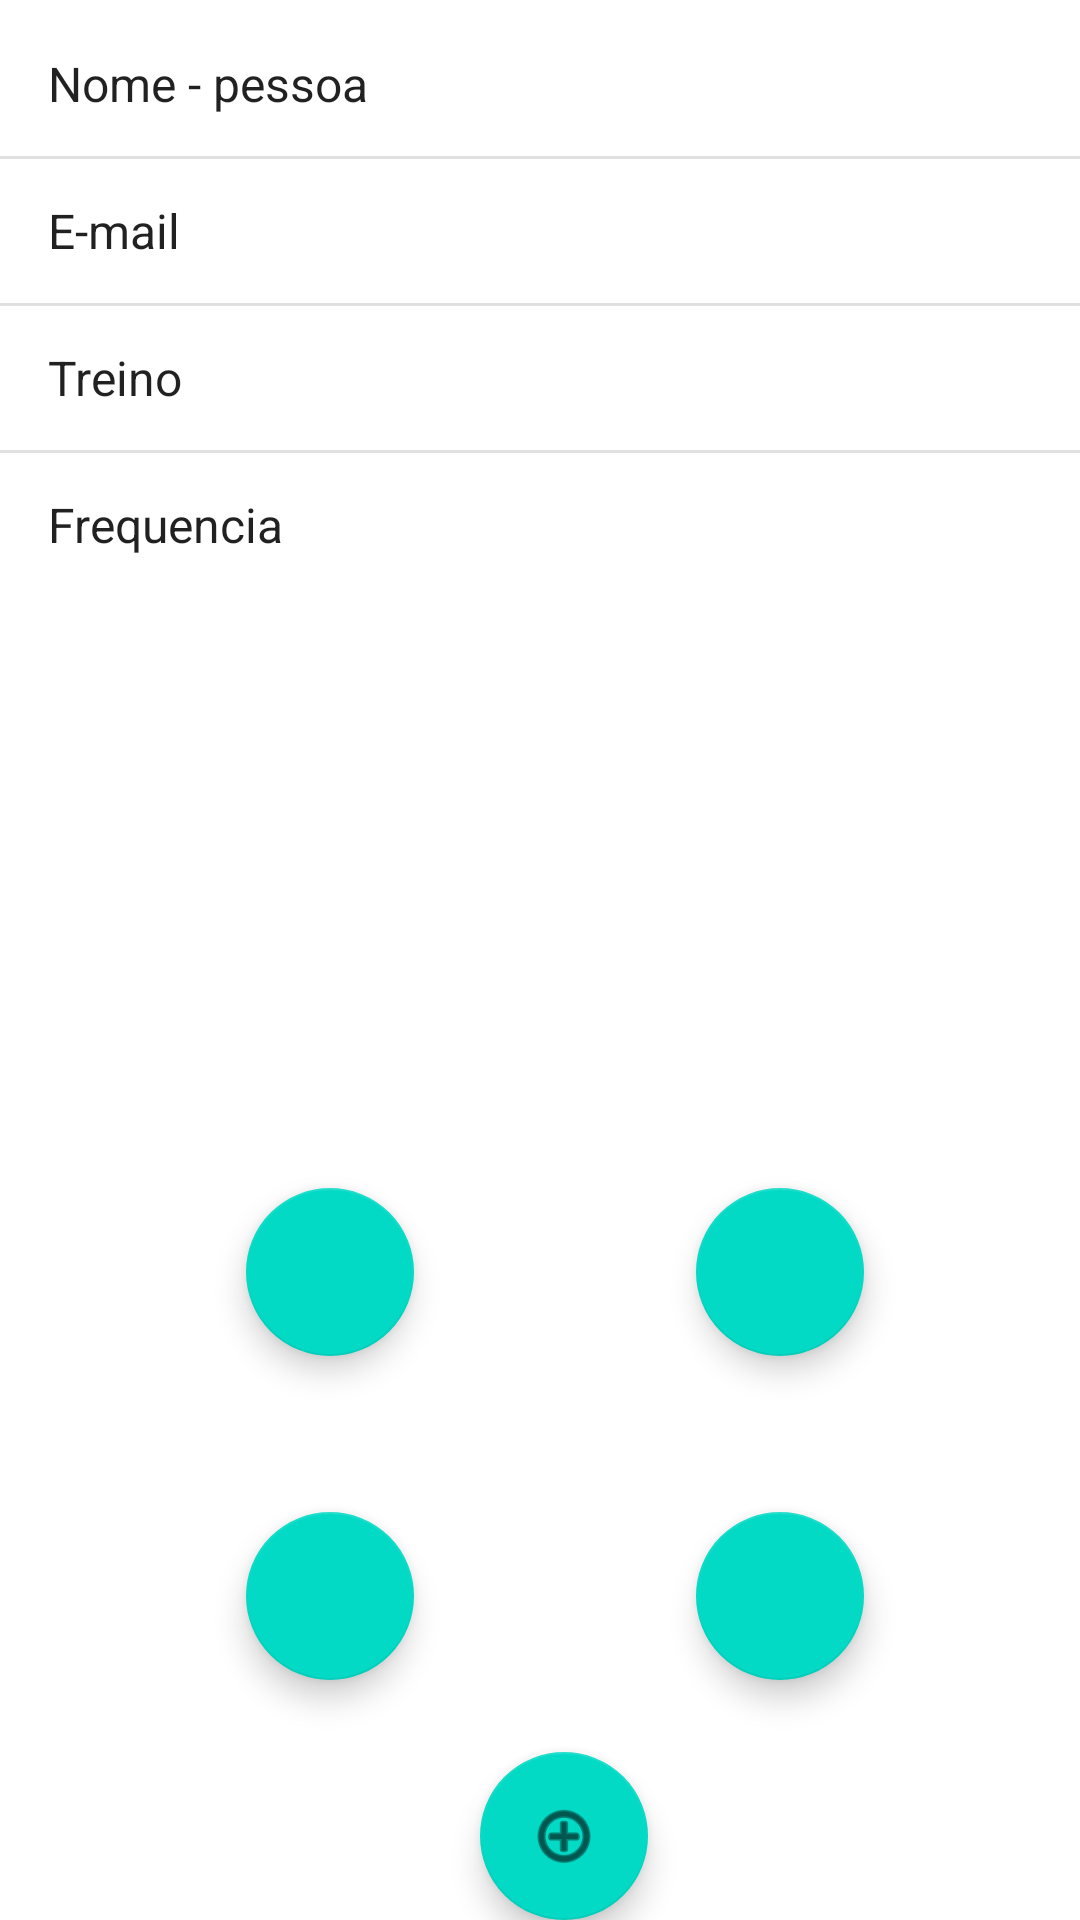

Icon bounding boxes for this 1080px×1920px phone screenshot, format (x1, y1, x2, y2):
add: (480, 1752, 648, 1920)
